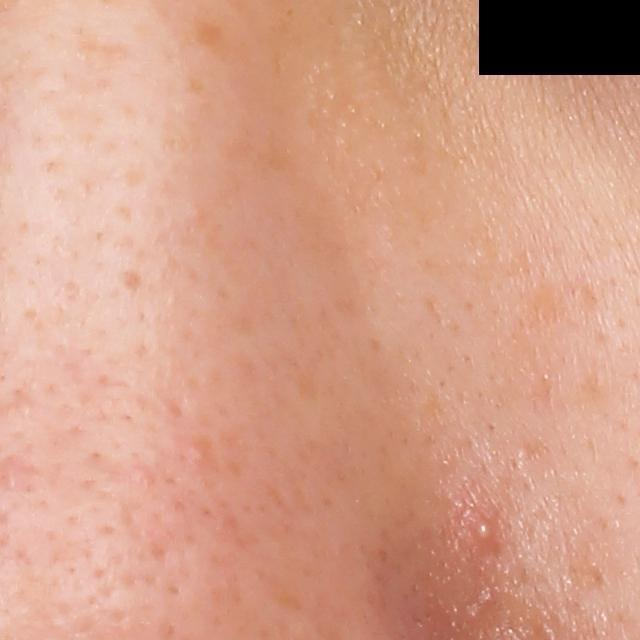atrophic_scar: (120, 267, 143, 297)
comedo: (189, 443, 212, 463)
melasma: (515, 285, 577, 339), (192, 16, 225, 55)
pustule: (474, 516, 499, 549)
